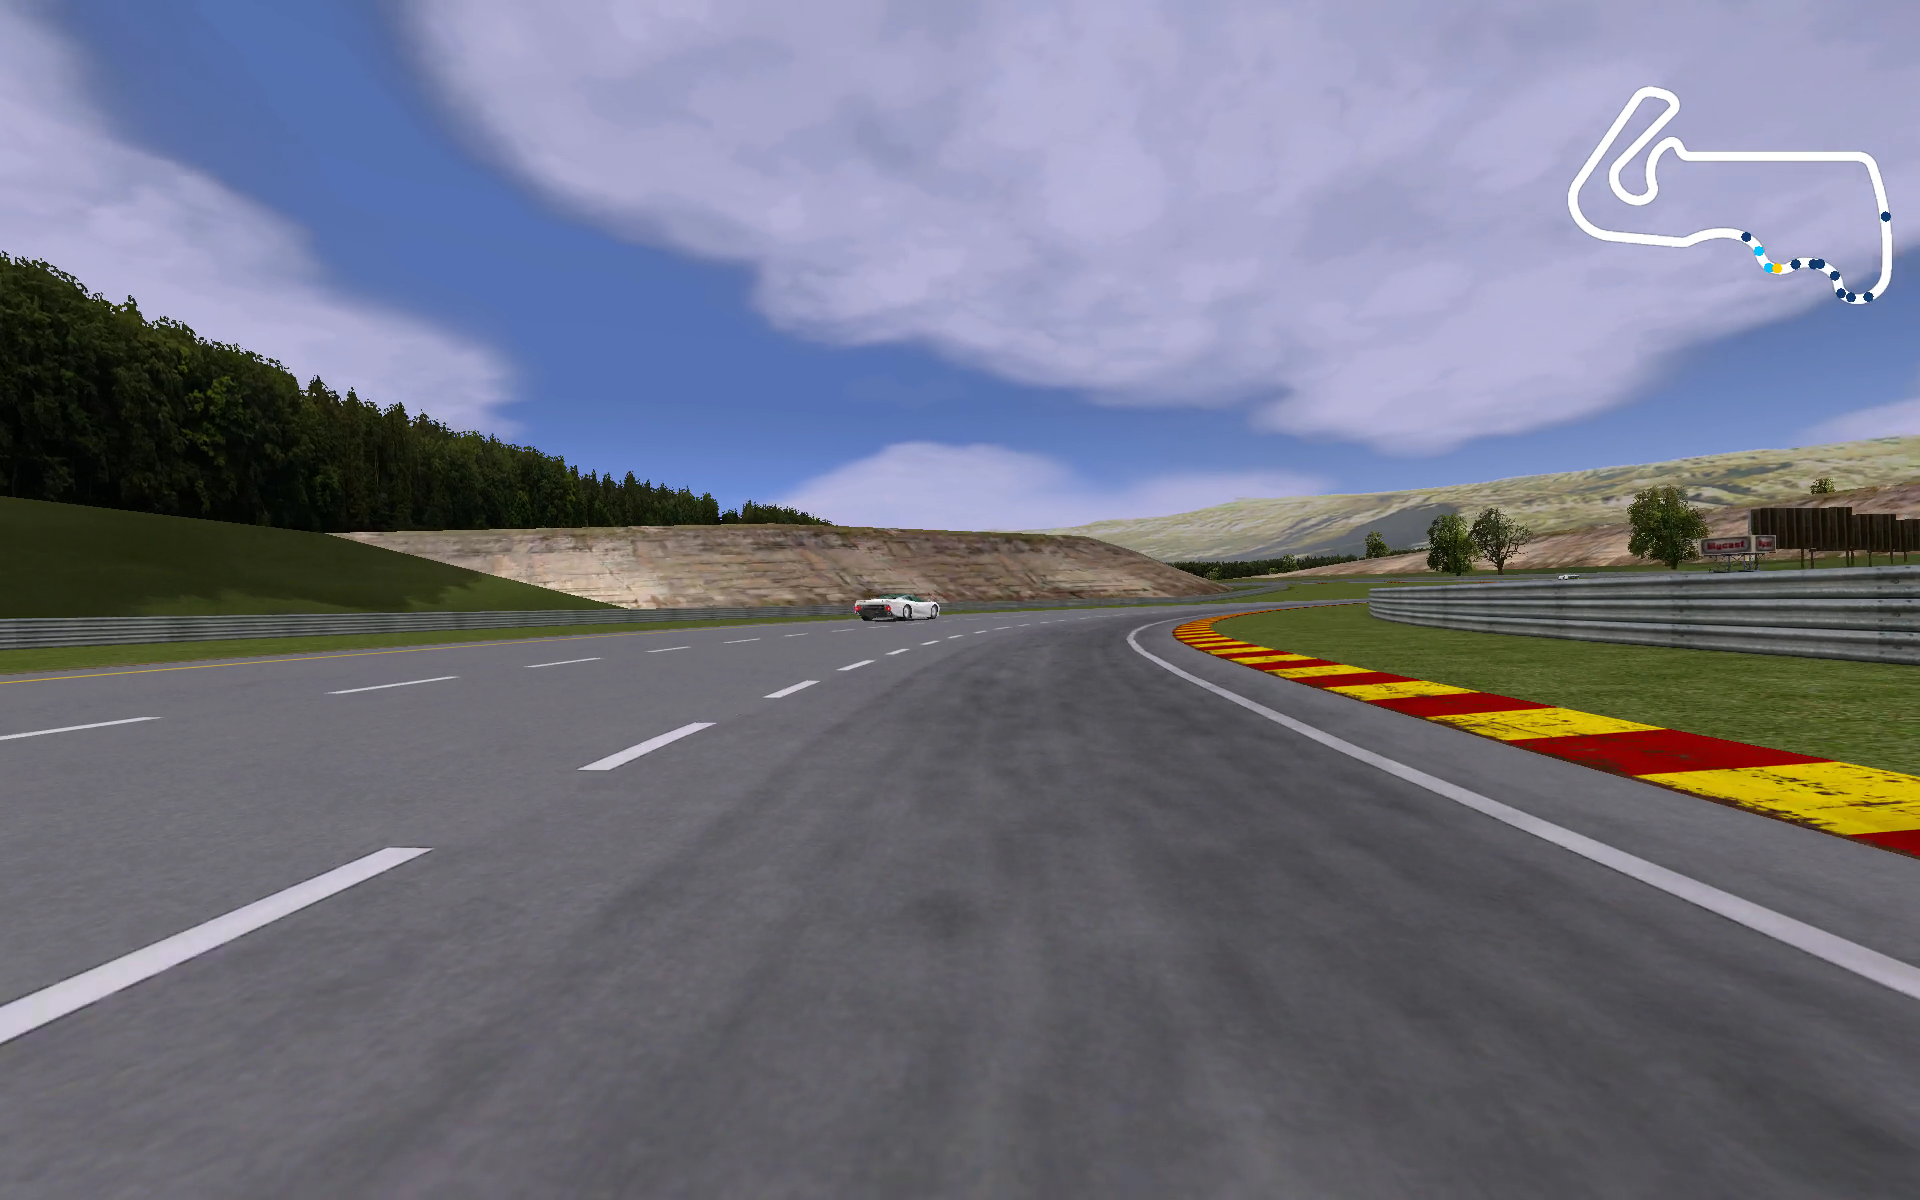car: (850, 590, 944, 624)
